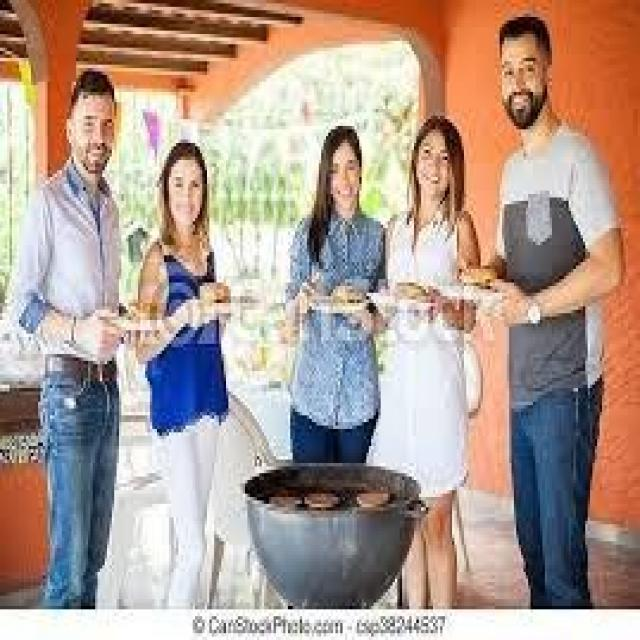person: (457, 10, 628, 606), (0, 65, 155, 602), (128, 140, 257, 616), (383, 95, 497, 596), (281, 112, 395, 474)
